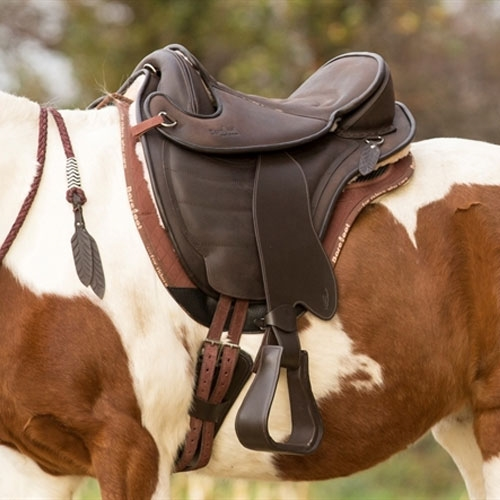saddle: (105, 20, 413, 340)
